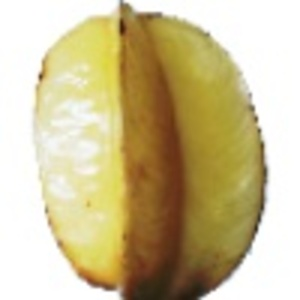carambola: (32, 1, 268, 300)
